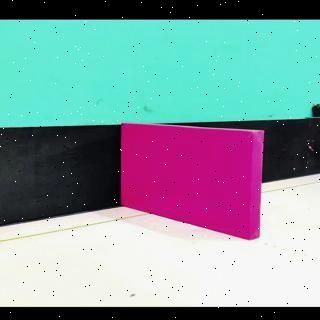xparking: (121, 136, 256, 237)
